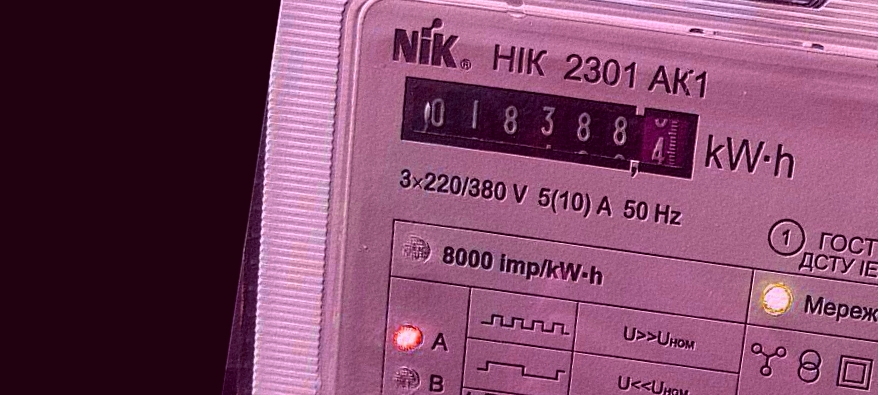0: (425, 93, 450, 132)
1: (463, 94, 487, 133)
3: (536, 103, 561, 140)
4: (646, 132, 671, 167)
8: (498, 100, 524, 139), (608, 112, 634, 150), (572, 109, 597, 147)
screen: (387, 60, 715, 197)
